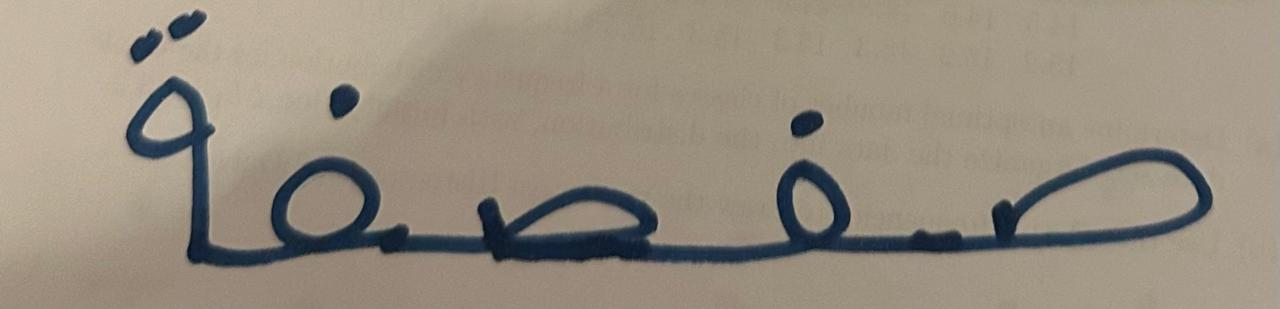feh: (687, 13, 914, 290), (237, 22, 406, 290)
seen: (917, 10, 1253, 292), (410, 36, 682, 295)
thal: (97, 6, 234, 289)
